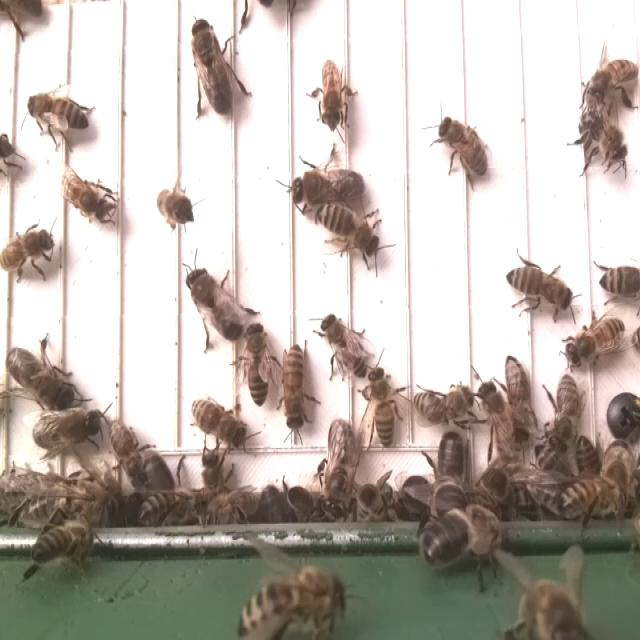Drone: (183, 264, 247, 344), (5, 342, 76, 413), (189, 14, 235, 115), (320, 414, 360, 522), (286, 165, 368, 207), (30, 408, 105, 452)
Worker: (434, 116, 492, 180), (505, 263, 577, 313), (320, 312, 369, 382), (317, 203, 381, 256), (566, 314, 628, 367), (478, 378, 516, 464), (187, 394, 246, 449), (107, 415, 148, 491), (504, 350, 536, 446), (548, 372, 584, 457), (411, 380, 474, 428), (26, 90, 91, 136), (366, 362, 398, 452), (278, 344, 309, 434), (0, 227, 54, 277), (242, 319, 272, 408), (57, 170, 111, 218), (584, 57, 640, 103), (318, 56, 346, 132)
